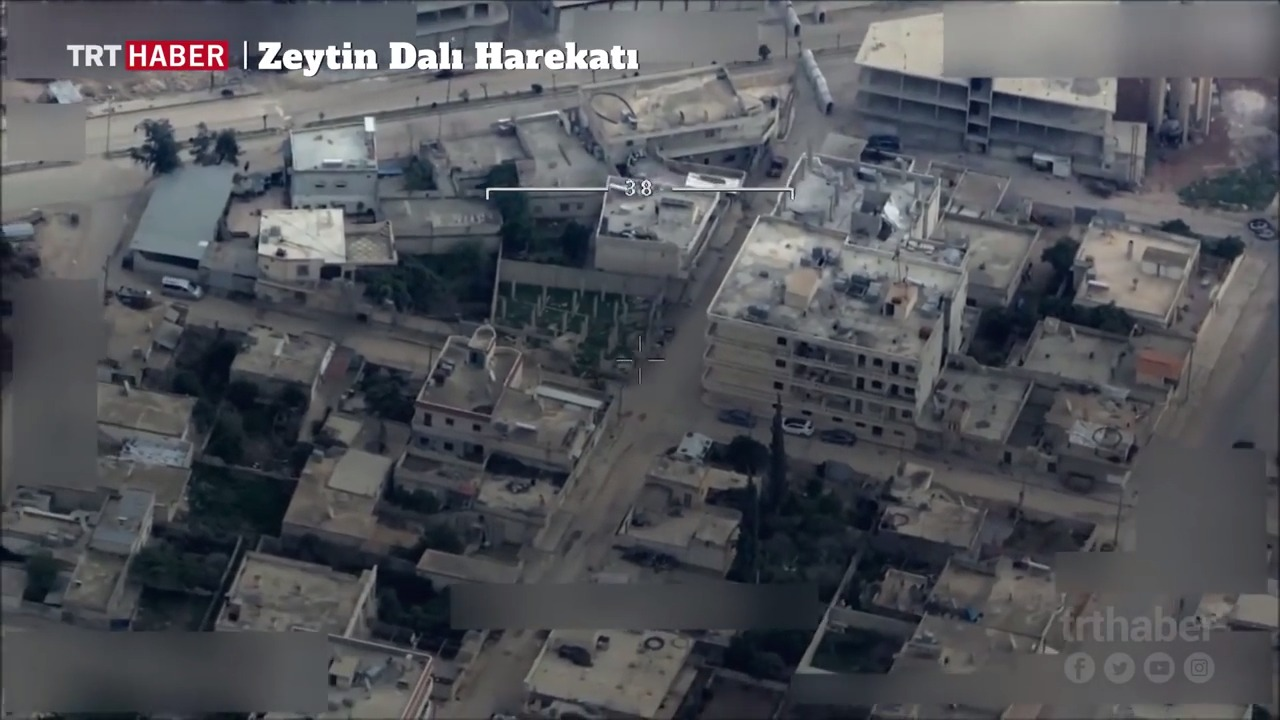arac: (154, 270, 210, 297), (817, 421, 866, 447), (716, 405, 765, 430), (760, 146, 793, 182), (863, 131, 917, 152), (778, 412, 819, 433)
bina: (695, 207, 985, 448), (396, 320, 616, 487), (1123, 348, 1201, 396)
